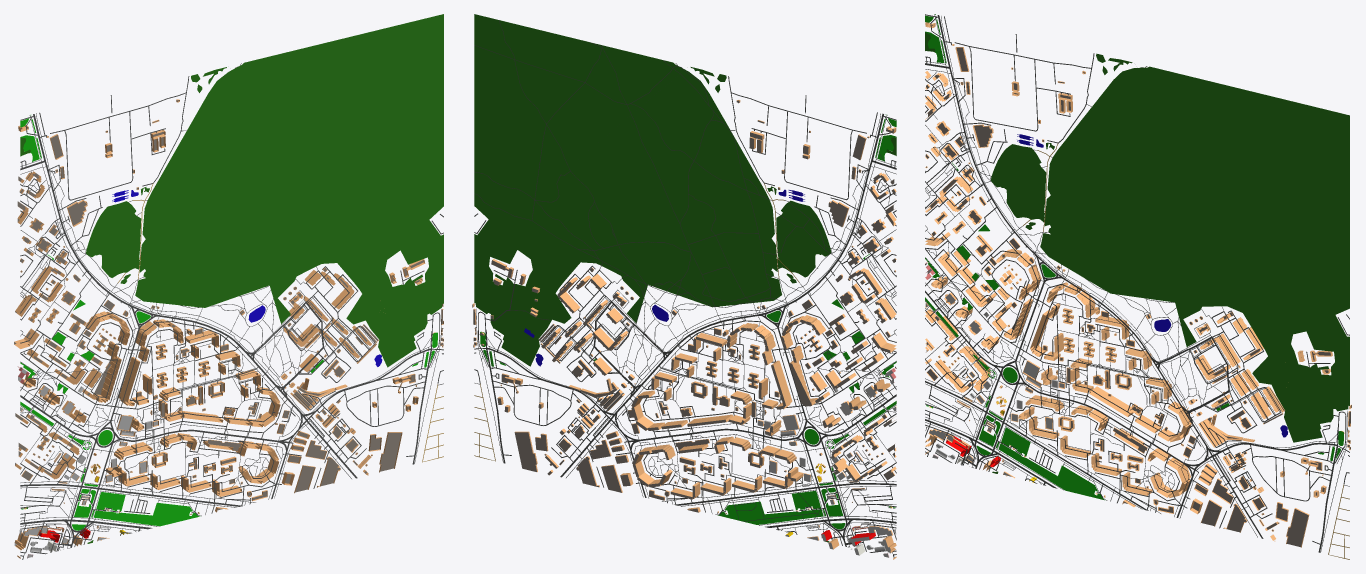
Rendered from tile.010.fbx.
3 views of the same model, side by side, from view 1: azimuth 30°, elevation 25°; view 2: azimuth 150°, elevation 25°; view 3: azimuth 330°, elevation 25° (orthographic).
Visible parts, largest first — view 1: tile.010; view 2: tile.010; view 3: tile.010.
Boxes of the visible parts, x1,y1,x2,y2 form: tile.010: (14, 14, 443, 559); tile.010: (472, 14, 896, 559); tile.010: (925, 14, 1351, 559).
Size of the model in its own units: 400 by 400 by 13.91.
